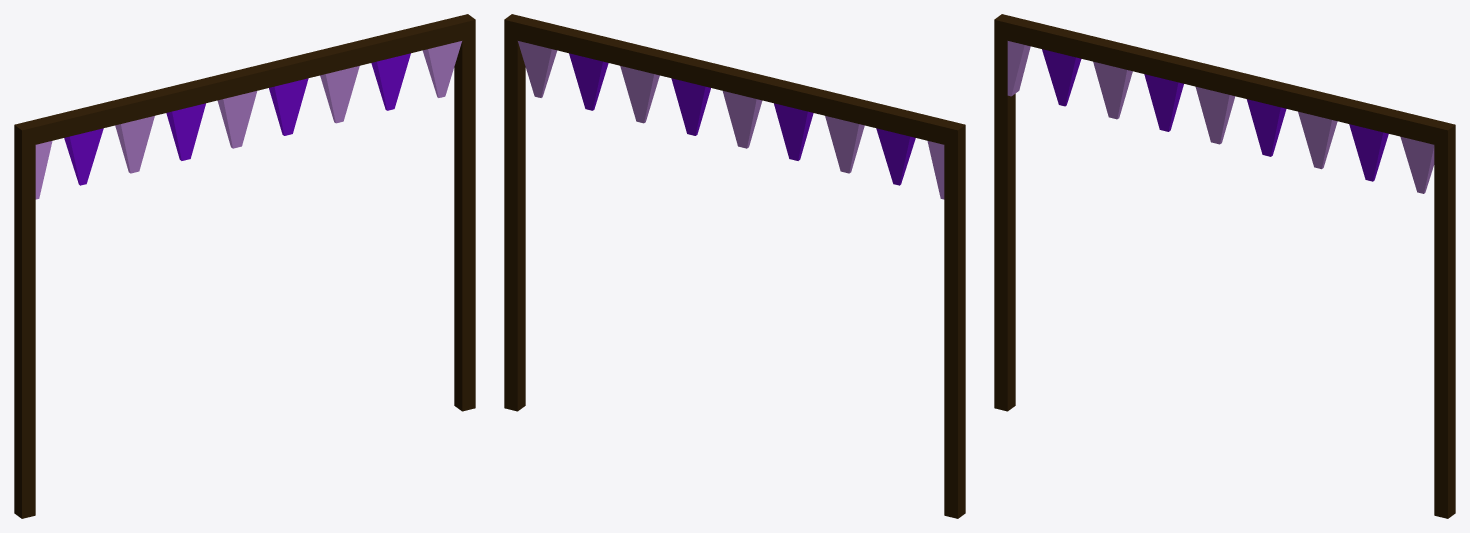
File: CelebrationBanner.fbx
3 renders of one model, left to right at view 1: azimuth 30°, elevation 25°; view 2: azimuth 150°, elevation 25°; view 3: azimuth 330°, elevation 25°, orthographic.
Visible parts, largest first — view 1: Celebration Banner; view 2: Celebration Banner; view 3: Celebration Banner.
Part boxes in pixels (x1,y1,x2,y2): Celebration Banner: (14,14,475,518); Celebration Banner: (504,14,965,518); Celebration Banner: (994,14,1455,518).
Size of the model in its own units: 10.42 by 0.3106 by 8.52.
